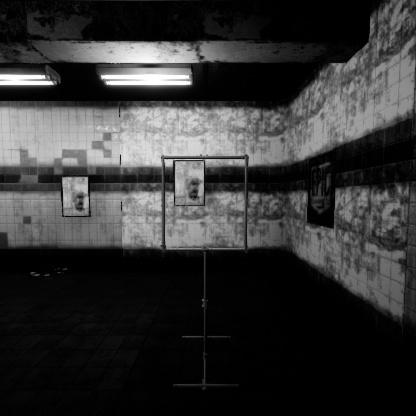gate: (161, 163, 257, 260)
